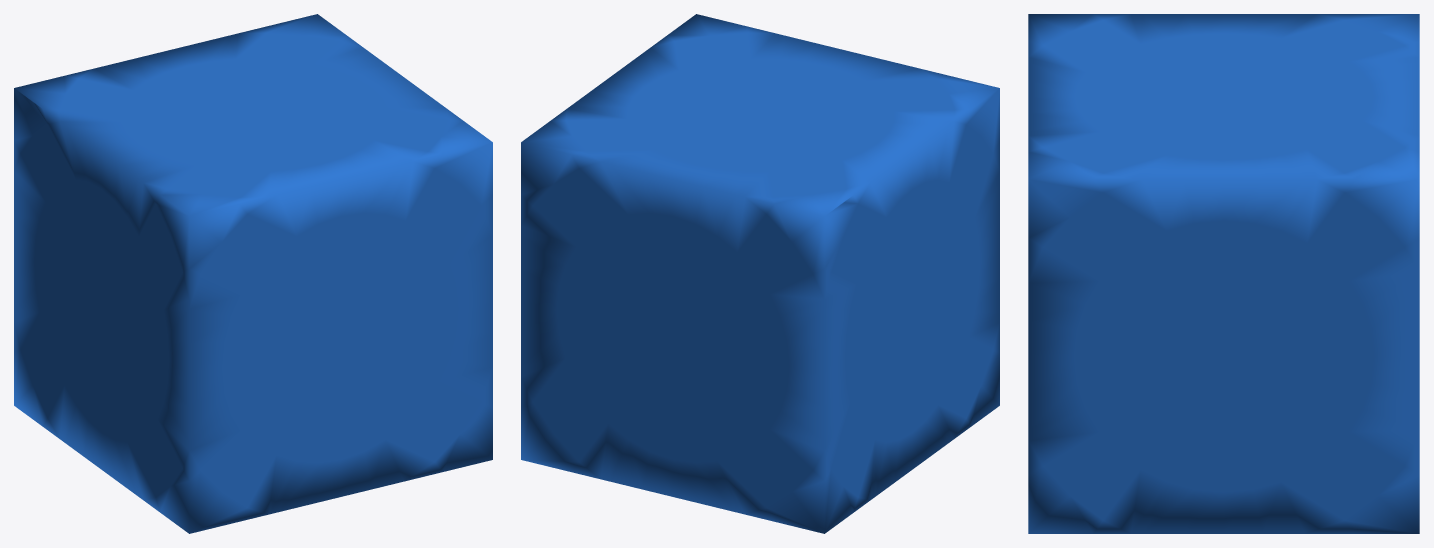
File: Orcube.fbx
3 renders of one model, left to right at view 1: azimuth 30°, elevation 25°; view 2: azimuth 150°, elevation 25°; view 3: azimuth 270°, elevation 25°, orthographic. The views are drawn at different scales.
Visible parts, largest first — view 1: Orcube; view 2: Orcube; view 3: Orcube.
Part boxes in pixels (bbox=[...]): Orcube: bbox=[14, 14, 492, 533]; Orcube: bbox=[521, 14, 999, 533]; Orcube: bbox=[1028, 14, 1419, 533].
Bounding box in the file's own units: 100 × 100 × 100.
